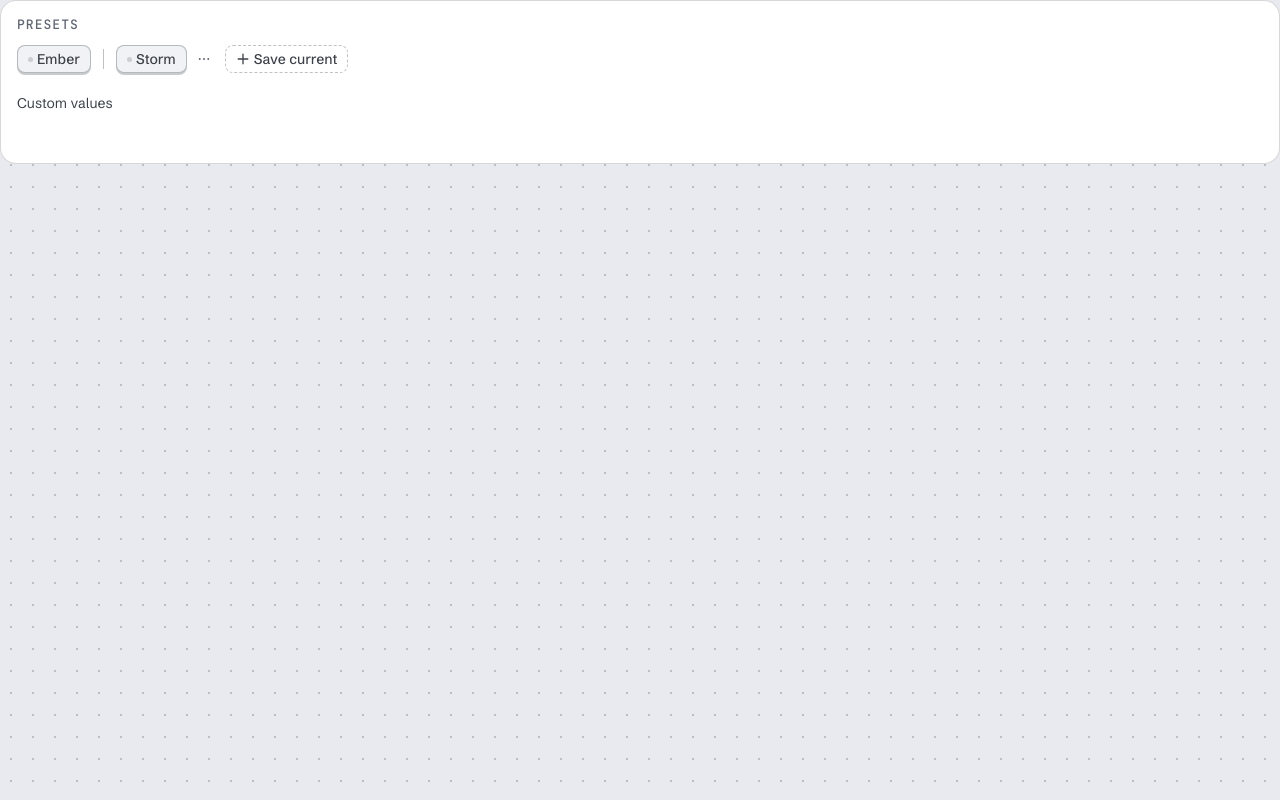
Scenario: PresetStrip › keeps the field open and prints the daemon's refusal when the save fails
Click the button with aria-label "Save current values as a preset" at (286, 59), box [225,45,348,73]
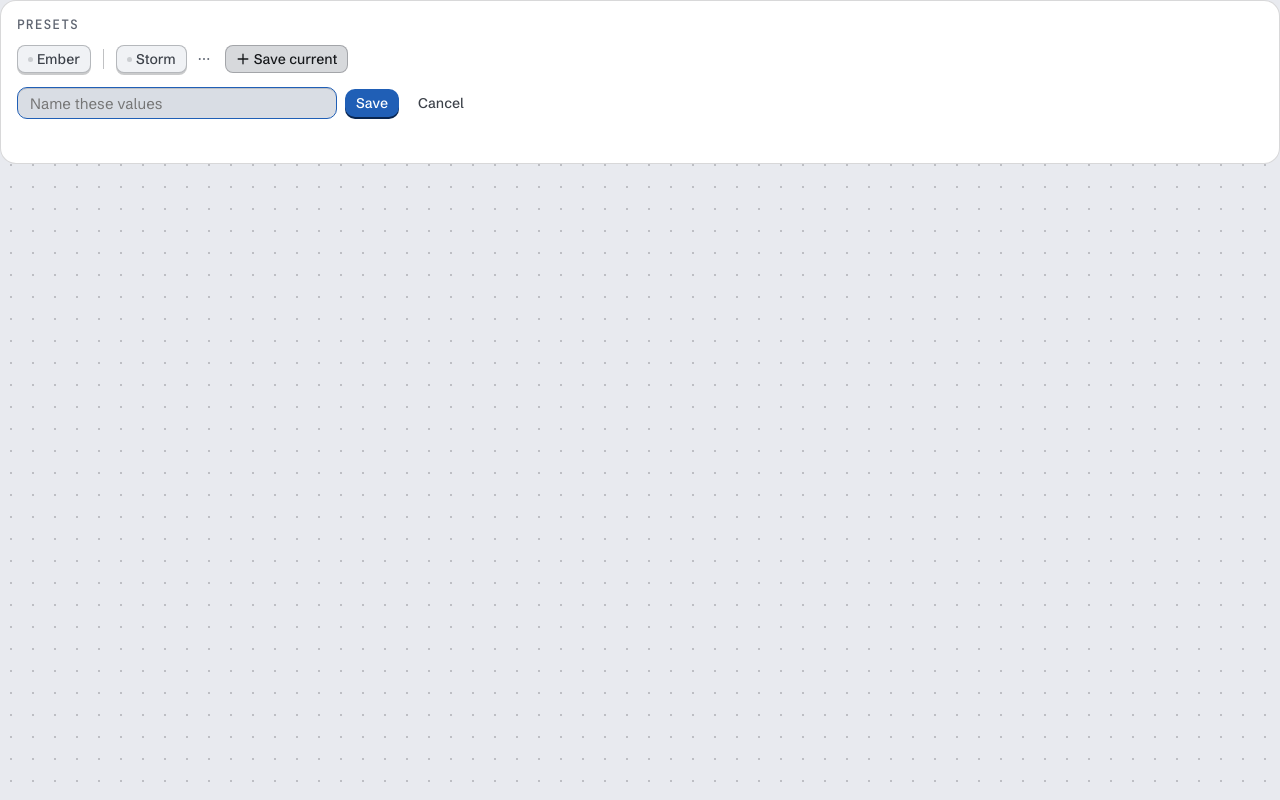
Type "Gale" into the field named "Preset name" at (177, 103), box [17,87,337,119]
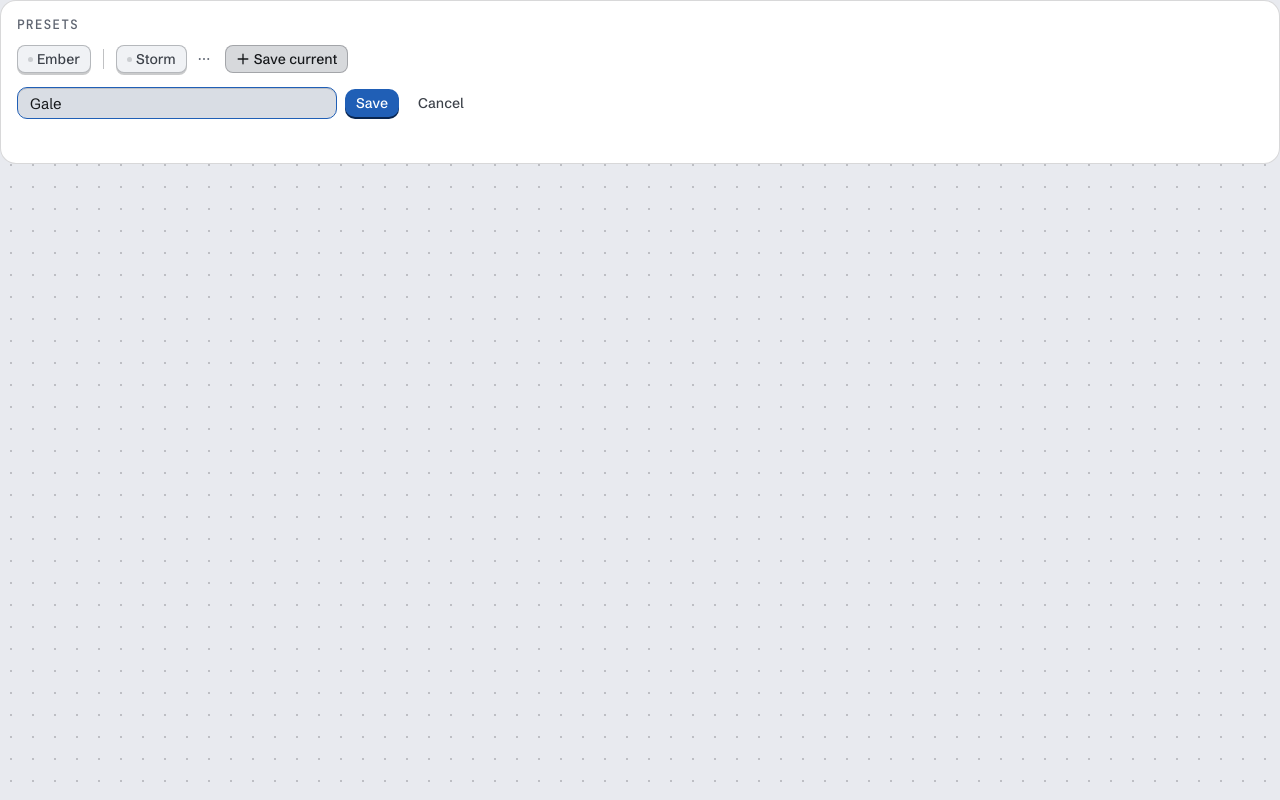
Press Enter in the field named "Preset name", box [17,87,337,119]
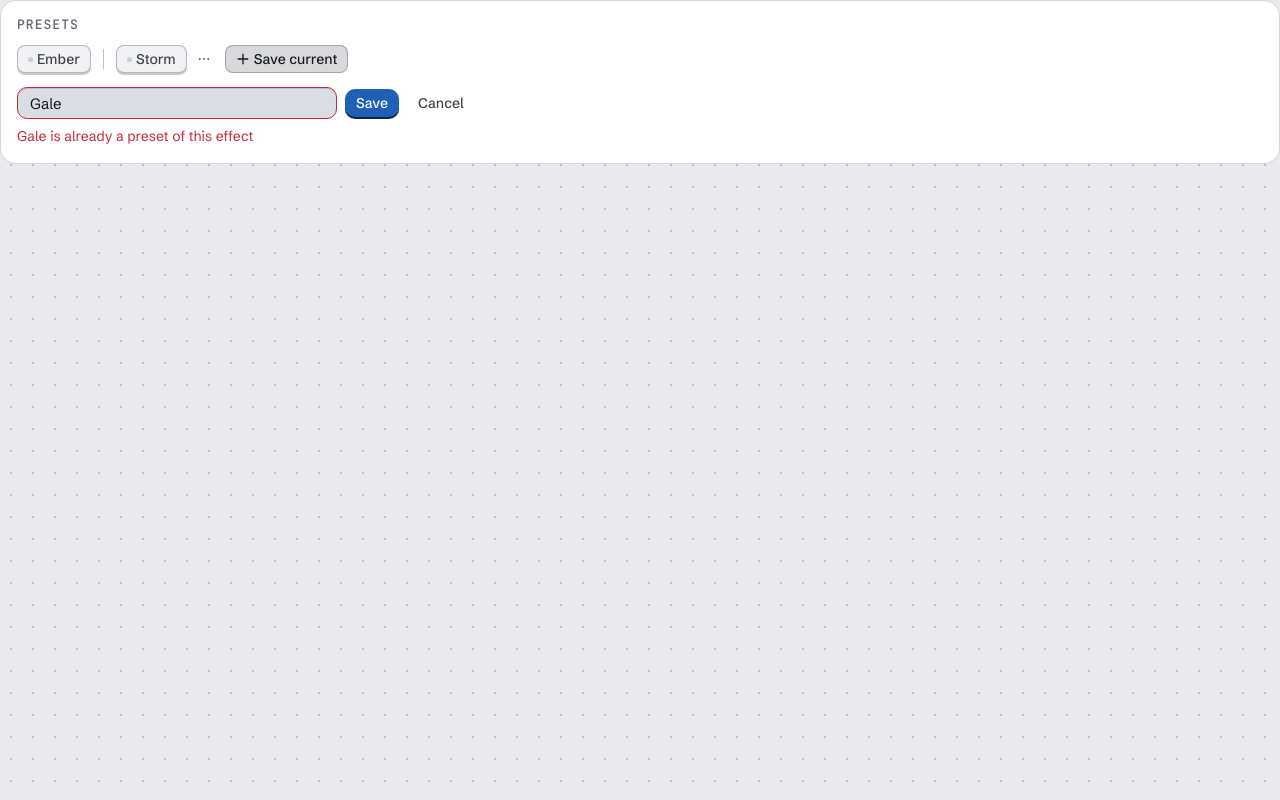
Now the message shows "Gale is already", box [17,127,253,145]
